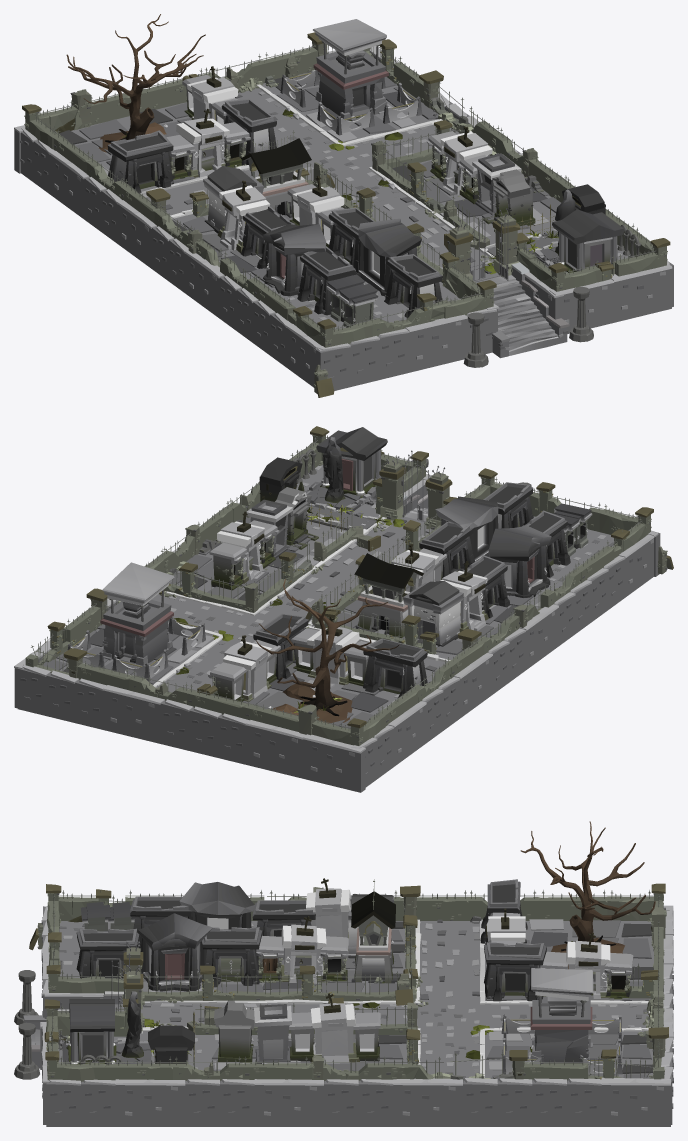
File: NecroPOLY_Chunk_02c.fbx
3 views of the same model, one above another, from view 1: azimuth 30°, elevation 25°; view 2: azimuth 150°, elevation 25°; view 3: azimuth 270°, elevation 25° (orthographic). The views are drawn at different scales.
Parts seen in each view (by area): view 1: NecroPOLY_Chunk_02c_LOD0; view 2: NecroPOLY_Chunk_02c_LOD0; view 3: NecroPOLY_Chunk_02c_LOD0.
Boxes of the visible parts, x1,y1,x2,y2 form: NecroPOLY_Chunk_02c_LOD0: (14, 14, 673, 397); NecroPOLY_Chunk_02c_LOD0: (14, 426, 673, 792); NecroPOLY_Chunk_02c_LOD0: (14, 821, 673, 1126).
Size of what is drawn, in the model's own units: 62.11 by 25.18 by 95.08.
